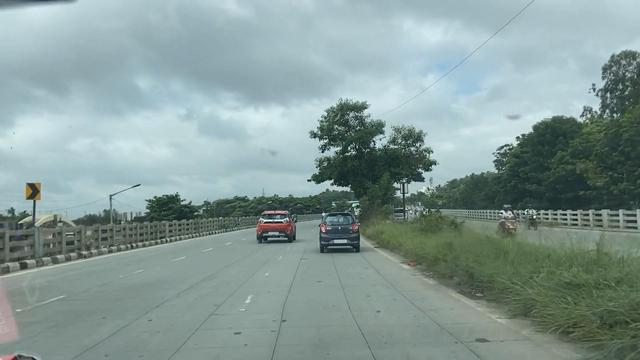LMV: (320, 214, 353, 246), (261, 213, 296, 241)
